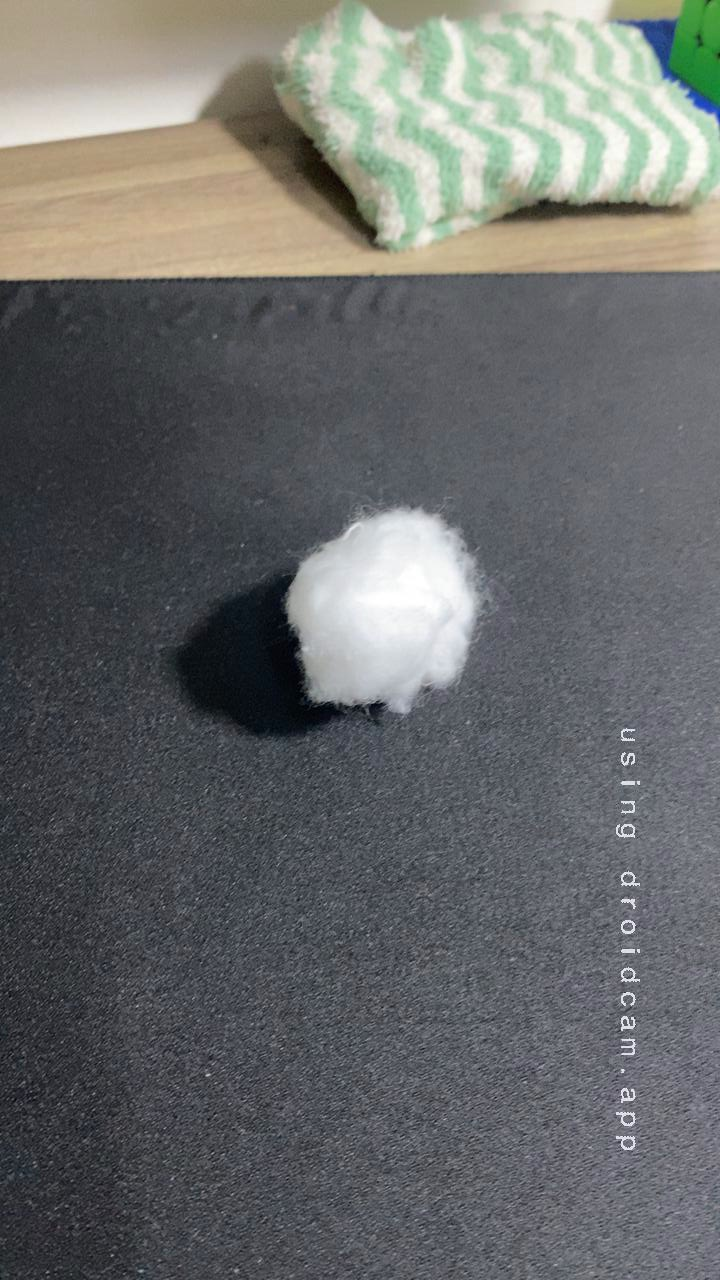cotton: (256, 489, 500, 721)
